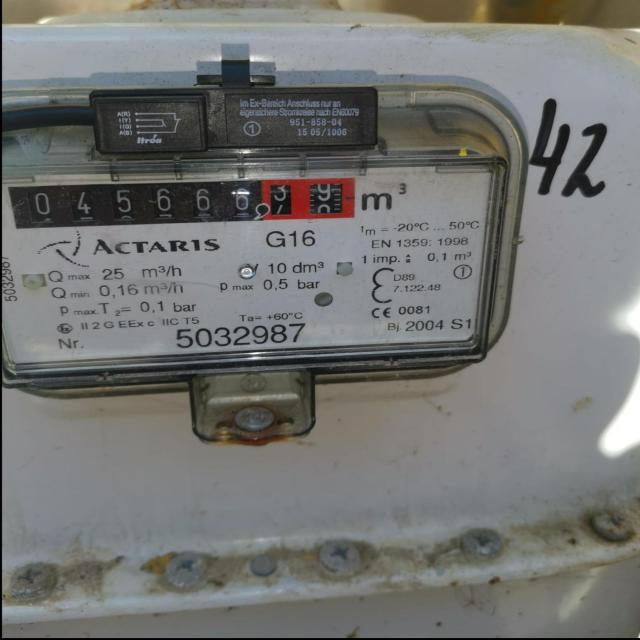gaz_meter: (0, 174, 483, 365)
indication: (10, 178, 359, 231)
